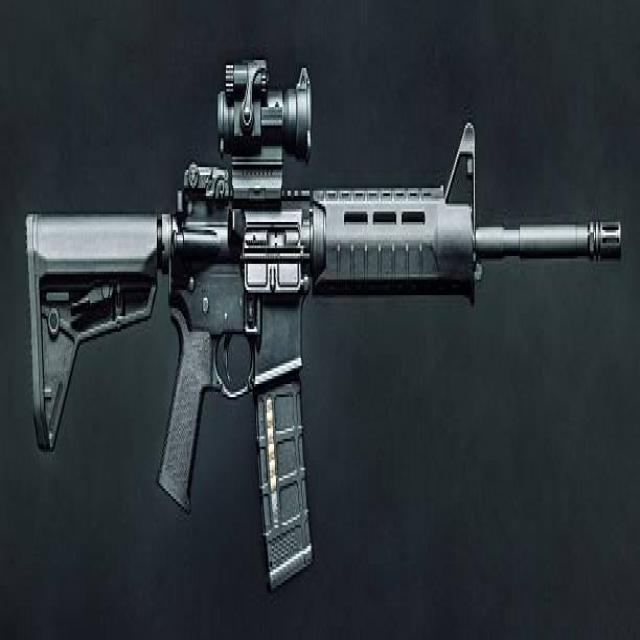weapon: (24, 60, 624, 593)
